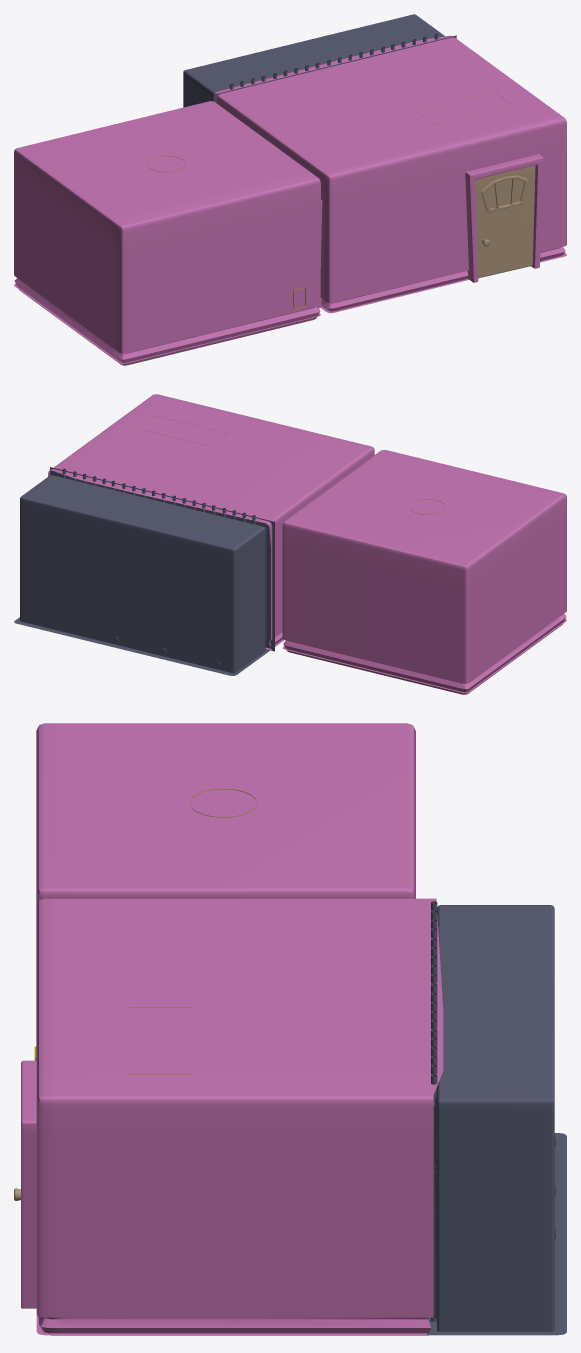
Rendered from Police Station.fbx.
3 views of the same model, one above another, from view 1: azimuth 30°, elevation 25°; view 2: azimuth 150°, elevation 25°; view 3: azimuth 270°, elevation 25° (orthographic). The views are drawn at different scales.
Visible parts, largest first — view 1: Base, Cell_Base, ExteriorDoor, Floor1; view 2: Base, Cell_Base, Floor1; view 3: Base, Cell_Base, Floor1.
Boxes of the visible parts, left/top/right/bottom form: Base: left=14, top=35, right=566, bottom=365; Cell_Base: left=183, top=14, right=456, bottom=107; ExteriorDoor: left=475, top=165, right=535, bottom=278; Floor1: left=14, top=252, right=566, bottom=363; Base: left=48, top=394, right=566, bottom=694; Cell_Base: left=20, top=467, right=274, bottom=673; Floor1: left=14, top=617, right=566, bottom=693; Base: left=21, top=723, right=443, bottom=1335; Cell_Base: left=431, top=901, right=554, bottom=1331; Floor1: left=36, top=1133, right=566, bottom=1335.
Size of the model in its own units: 10.16 by 3.14 by 6.28.
